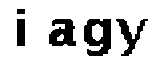a: (45, 13, 78, 53)
g: (82, 17, 114, 60)
i: (10, 6, 31, 53)
y: (115, 17, 153, 57)
